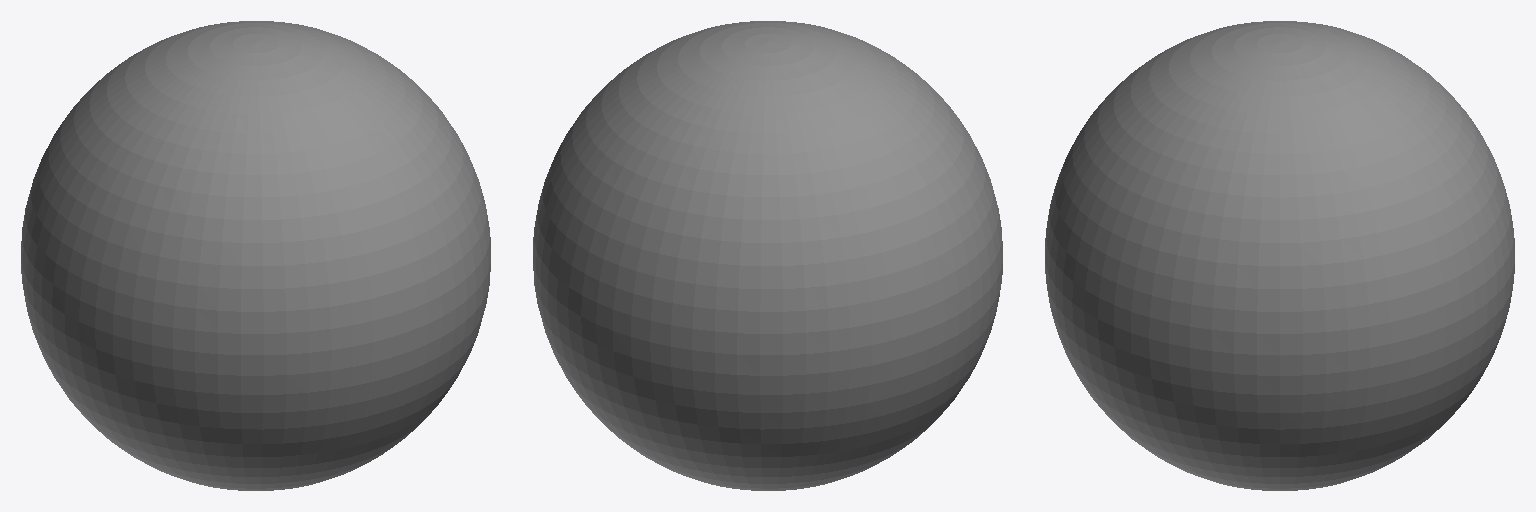
The model's file is sun.obj.
3 renders of one model, left to right at view 1: azimuth 30°, elevation 25°; view 2: azimuth 150°, elevation 25°; view 3: azimuth 270°, elevation 25°, orthographic.
Parts seen in each view (by area): view 1: Sphere001; view 2: Sphere001; view 3: Sphere001.
Boxes of the visible parts, <box> form: Sphere001: <box>21,21,490,490</box>; Sphere001: <box>533,21,1002,490</box>; Sphere001: <box>1045,21,1514,490</box>.
Size of the model in its own units: 1 by 1 by 1.